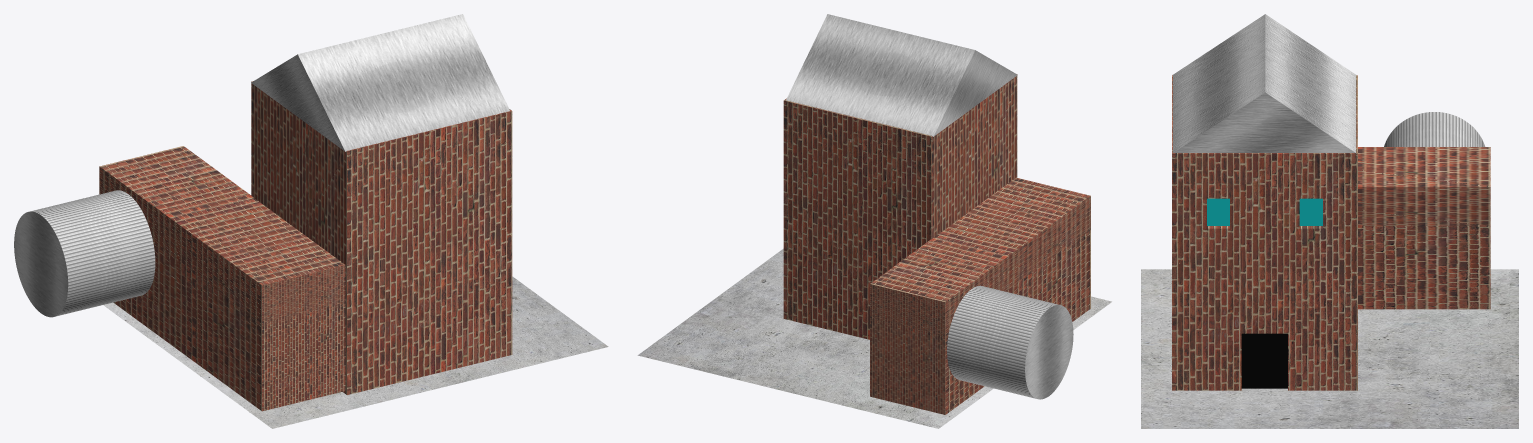
The model's file is factory.dae.
3 views of the same model, side by side, from view 1: azimuth 30°, elevation 25°; view 2: azimuth 150°, elevation 25°; view 3: azimuth 270°, elevation 25° (orthographic). The views are drawn at different scales.
Visible parts, largest first — view 1: Cube_001, Cube_002, Cylinder, Cube, Cylinder_001, Plane_001; view 2: Cube_001, Plane_001, Cube_002, Cylinder, Cylinder_001, Cube; view 3: Cube_001, Plane_001, Cylinder, Cube, Cube_002, Cylinder_001.
Part boxes in pixels (<box>): Cube_001: <box>251,81,512,394</box>; Cube_002: <box>99,146,345,326</box>; Cylinder: <box>251,14,509,151</box>; Cube: <box>113,247,345,411</box>; Cylinder_001: <box>14,190,155,317</box>; Plane_001: <box>103,276,608,428</box>; Cube_001: <box>783,76,1017,339</box>; Plane_001: <box>637,248,1111,428</box>; Cube_002: <box>870,177,1090,338</box>; Cylinder: <box>786,14,1017,136</box>; Cylinder_001: <box>947,285,1073,399</box>; Cube: <box>870,230,1090,414</box>; Cube_001: <box>1172,75,1357,390</box>; Plane_001: <box>1141,269,1518,428</box>; Cylinder: <box>1173,14,1355,152</box>; Cube: <box>1358,225,1490,309</box>; Cube_002: <box>1358,147,1490,226</box>; Cylinder_001: <box>1384,112,1485,146</box>.
Bounding box in the file's own units: 9.91 × 8 × 7.02.
8 materials, 6 textured.
